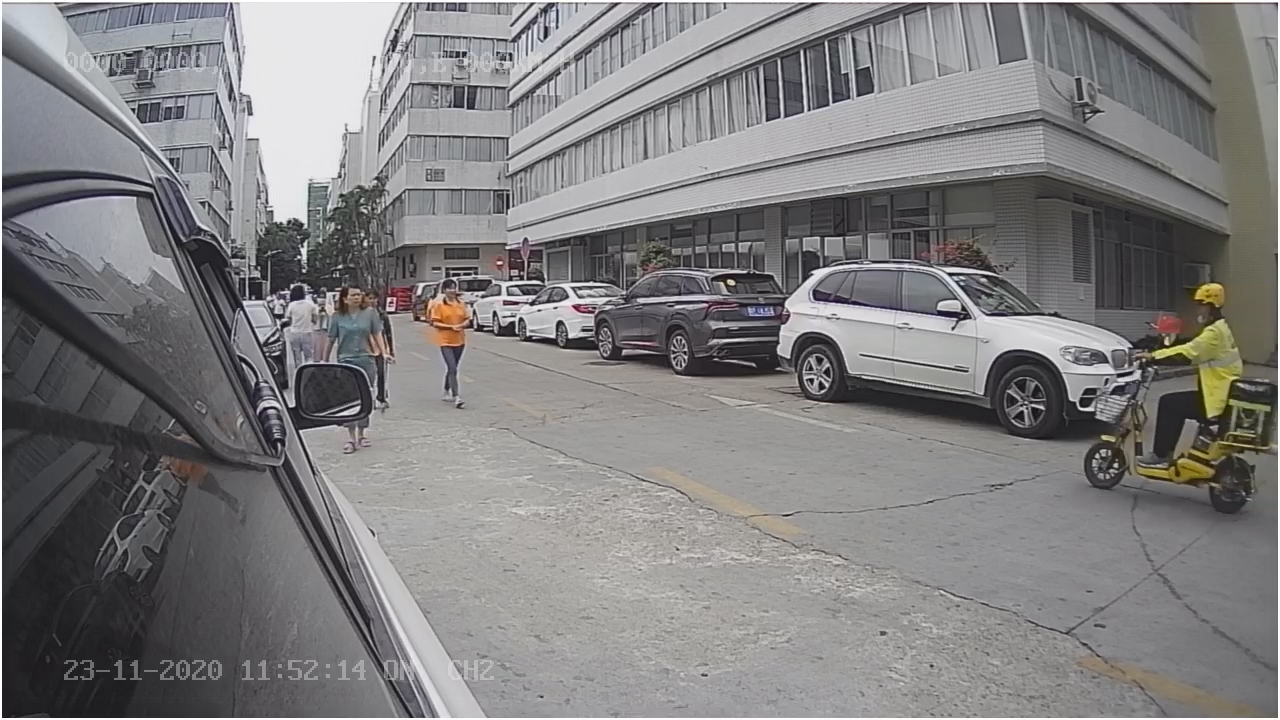person: (422, 274, 481, 409), (326, 285, 385, 356)
